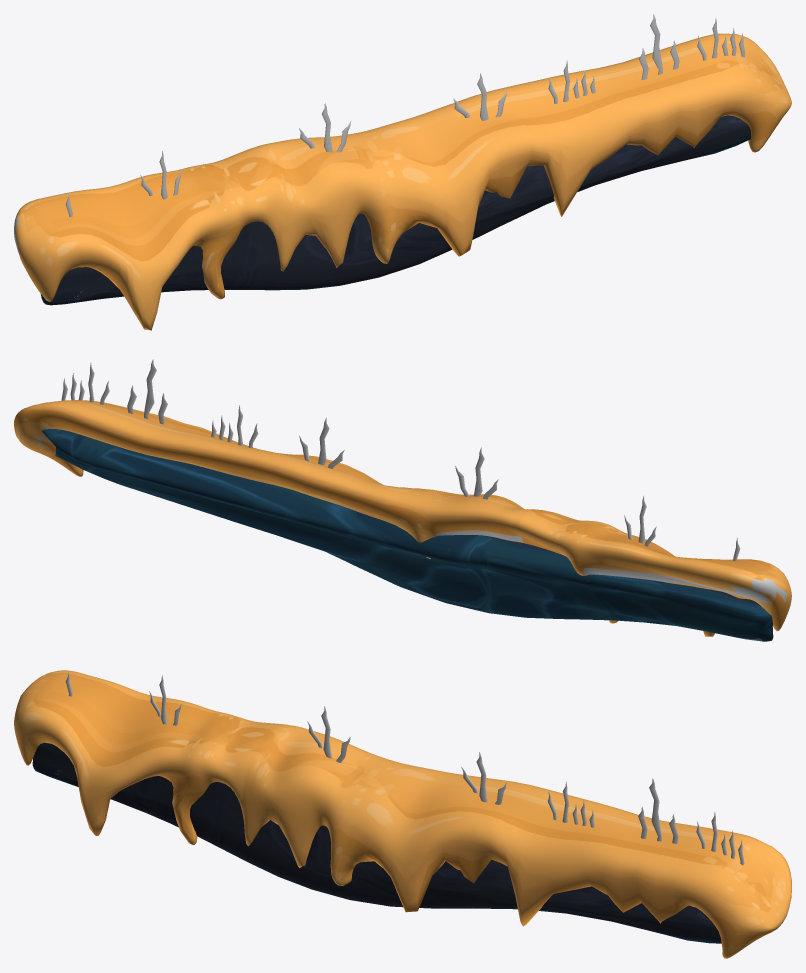
The model's file is SeaMid.fbx.
The picture shows the model from 3 angles, top to bottom: view 1: azimuth 30°, elevation 25°; view 2: azimuth 150°, elevation 25°; view 3: azimuth 330°, elevation 25°; orthographic projection.
Parts seen in each view (by area): view 1: sand, govde, ots; view 2: govde, sand, ots; view 3: sand, govde, ots.
Part boxes in pixels (<box>): sand: <box>14,33,791,330</box>; govde: <box>40,115,750,305</box>; ots: <box>65,14,745,216</box>; govde: <box>42,429,773,641</box>; sand: <box>14,400,791,636</box>; ots: <box>61,359,740,561</box>; sand: <box>14,670,791,958</box>; govde: <box>32,742,721,943</box>; ots: <box>65,671,744,865</box>.
Size of the model in its own units: 204 by 46.5 by 24.
